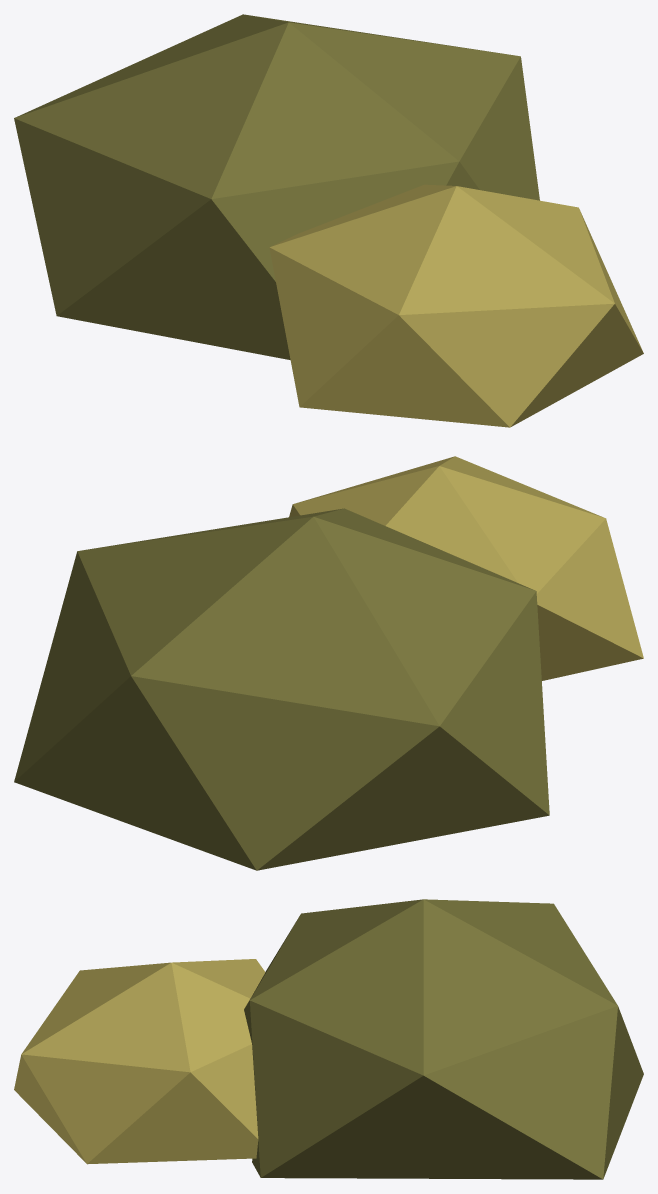
The model's file is F_Bush_03.fbx.
3 views of the same model, one above another, from view 1: azimuth 30°, elevation 25°; view 2: azimuth 150°, elevation 25°; view 3: azimuth 270°, elevation 25° (orthographic). The views are drawn at different scales.
Parts seen in each view (by area): view 1: F_Bush_03; view 2: F_Bush_03; view 3: F_Bush_03.
Boxes of the visible parts, left/top/right/bottom form: F_Bush_03: left=14, top=14, right=643, bottom=427; F_Bush_03: left=14, top=456, right=643, bottom=870; F_Bush_03: left=14, top=899, right=643, bottom=1179.
Size of the model in its own units: 93.37 by 46.11 by 127.
